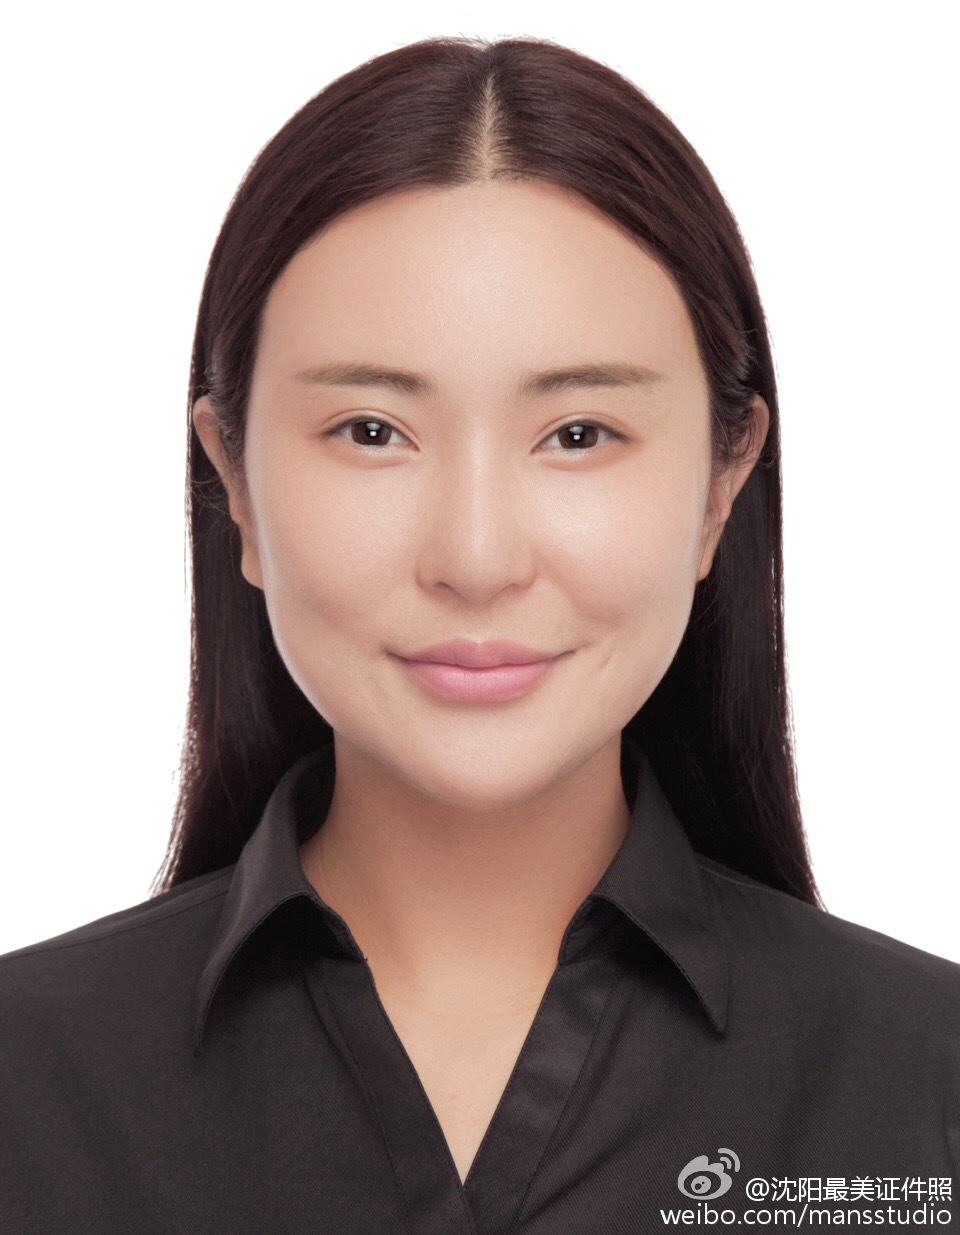unmask: (260, 255, 707, 749)
